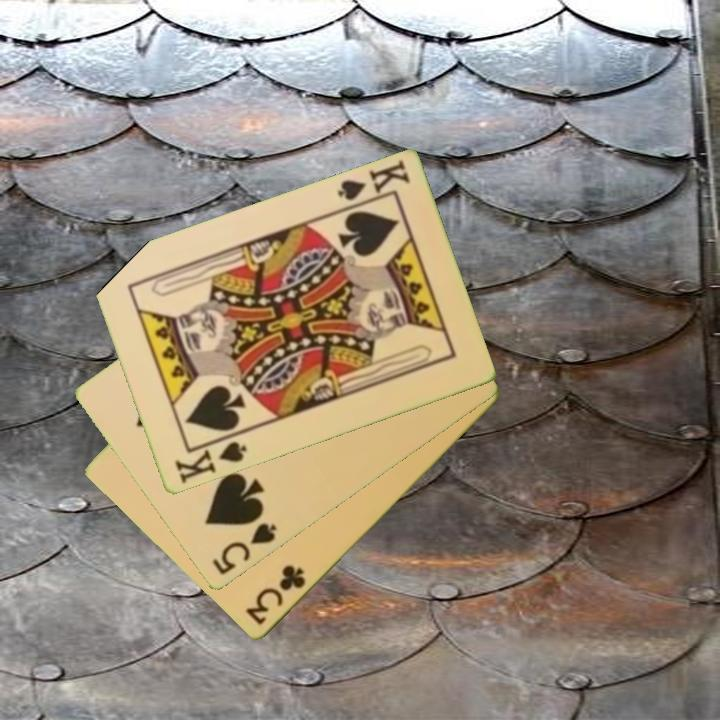3c: (242, 562, 309, 629)
5s: (209, 520, 280, 579)
Ks: (333, 156, 413, 213), (171, 431, 250, 487)
